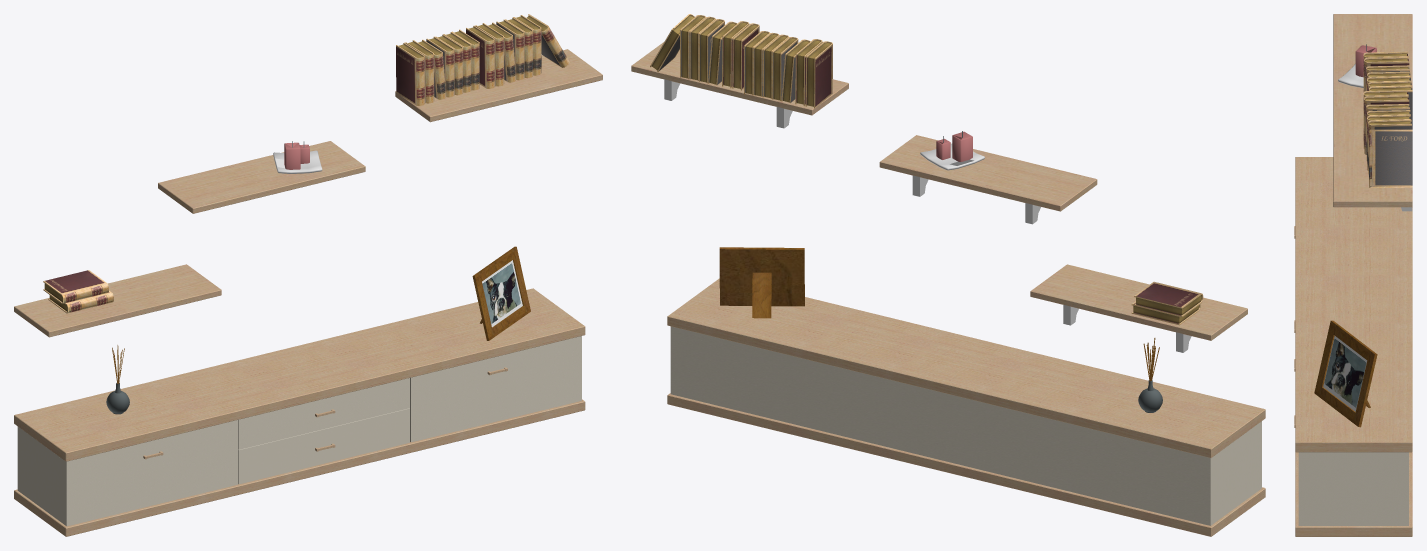
Rendered from TV_Stand_Set_02.fbx.
3 views of the same model, side by side, from view 1: azimuth 30°, elevation 25°; view 2: azimuth 150°, elevation 25°; view 3: azimuth 270°, elevation 25° (orthographic). The views are drawn at different scales.
Parts seen in each view (by area): view 1: polySurface16, polySurface52, polySurface24, polySurface17, polySurface20, polySurface19, polySurface18, polySurface49, polySurface51, polySurface25, polySurface53, polySurface27 (+3 smaller); view 2: polySurface52, polySurface16, polySurface17, polySurface20, polySurface19, polySurface49, polySurface18, polySurface53, polySurface25, polySurface50, polySurface27, polySurface38 (+6 smaller); view 3: polySurface16, polySurface52, polySurface18, polySurface20, polySurface38, polySurface49, polySurface51, polySurface17, polySurface28, polySurface26, polySurface37, polySurface34 (+11 smaller).
Part boxes in pixels (bbox=[...]): polySurface16: bbox=[14, 288, 585, 461]; polySurface52: bbox=[17, 336, 581, 526]; polySurface24: bbox=[238, 378, 409, 484]; polySurface17: bbox=[14, 399, 585, 536]; polySurface20: bbox=[158, 141, 365, 213]; polySurface19: bbox=[14, 264, 221, 337]; polySurface18: bbox=[395, 49, 602, 122]; polySurface49: bbox=[472, 246, 530, 340]; polySurface51: bbox=[482, 260, 522, 327]; polySurface25: bbox=[396, 42, 425, 105]; polySurface53: bbox=[43, 270, 108, 303]; polySurface27: bbox=[466, 25, 495, 88]; polySurface52: bbox=[670, 326, 1261, 525]; polySurface16: bbox=[667, 278, 1265, 457]; polySurface17: bbox=[667, 393, 1265, 536]; polySurface20: bbox=[879, 135, 1097, 211]; polySurface19: bbox=[1030, 264, 1247, 340]; polySurface49: bbox=[719, 247, 804, 306]; polySurface18: bbox=[631, 42, 848, 115]; polySurface53: bbox=[1134, 281, 1203, 316]; polySurface25: bbox=[805, 41, 832, 108]; polySurface50: bbox=[752, 272, 771, 318]; polySurface27: bbox=[732, 23, 759, 90]; polySurface38: bbox=[650, 14, 694, 71]; polySurface16: bbox=[1295, 157, 1412, 452]; polySurface52: bbox=[1298, 452, 1408, 525]; polySurface18: bbox=[1333, 106, 1412, 207]; polySurface20: bbox=[1333, 14, 1412, 106]; polySurface38: bbox=[1369, 129, 1412, 187]; polySurface49: bbox=[1314, 320, 1377, 427]; polySurface51: bbox=[1323, 336, 1367, 411]; polySurface17: bbox=[1295, 452, 1412, 536]; polySurface28: bbox=[1364, 95, 1409, 154]; polySurface26: bbox=[1364, 57, 1409, 91]; polySurface37: bbox=[1368, 119, 1411, 174]; polySurface34: bbox=[1366, 104, 1409, 160].
Size of the model in its own units: 4.11 by 2.57 by 0.6753.
